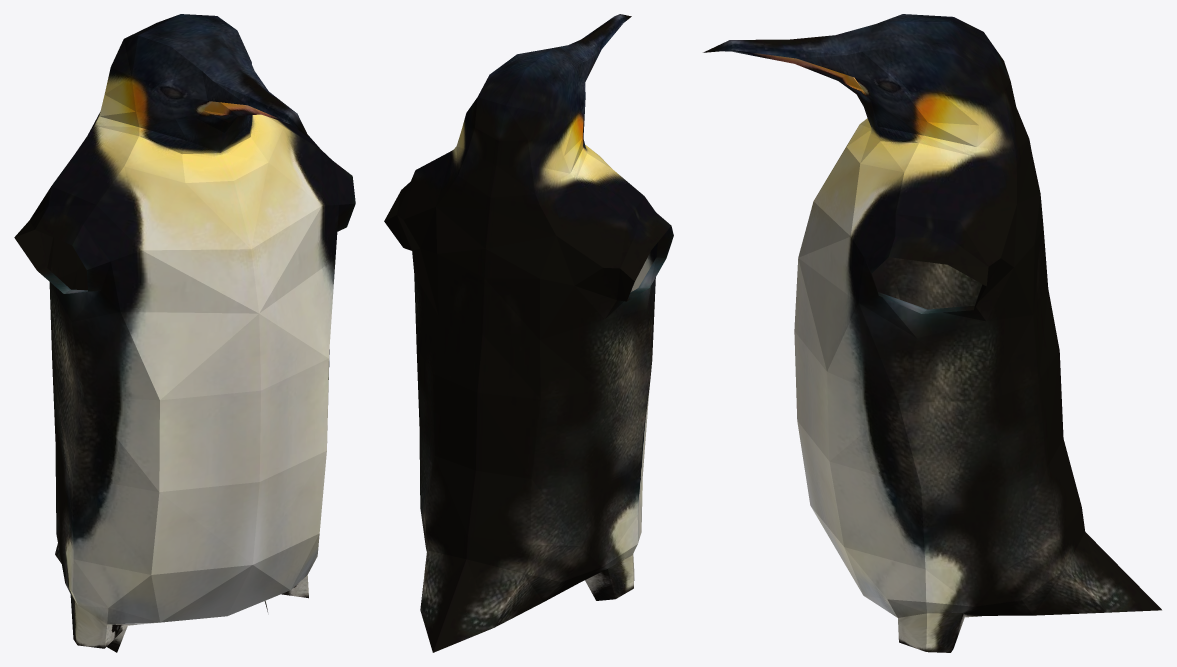
The model's file is BodyPinguino.obj.
The picture shows the model from 3 angles, left to right: view 1: azimuth 30°, elevation 25°; view 2: azimuth 150°, elevation 25°; view 3: azimuth 270°, elevation 25°; orthographic projection. The views are drawn at different scales.
Parts seen in each view (by area): view 1: polySurface9 Object_TPenguin_Diffuse_jpg; view 2: polySurface9 Object_TPenguin_Diffuse_jpg; view 3: polySurface9 Object_TPenguin_Diffuse_jpg.
Part boxes in pixels (bbox=[...]): polySurface9 Object_TPenguin_Diffuse_jpg: bbox=[14, 14, 355, 652]; polySurface9 Object_TPenguin_Diffuse_jpg: bbox=[384, 14, 673, 652]; polySurface9 Object_TPenguin_Diffuse_jpg: bbox=[703, 14, 1161, 652].
Size of the model in its own units: 0.9397 by 1.86 by 1.31.
1 material, 1 textured.
